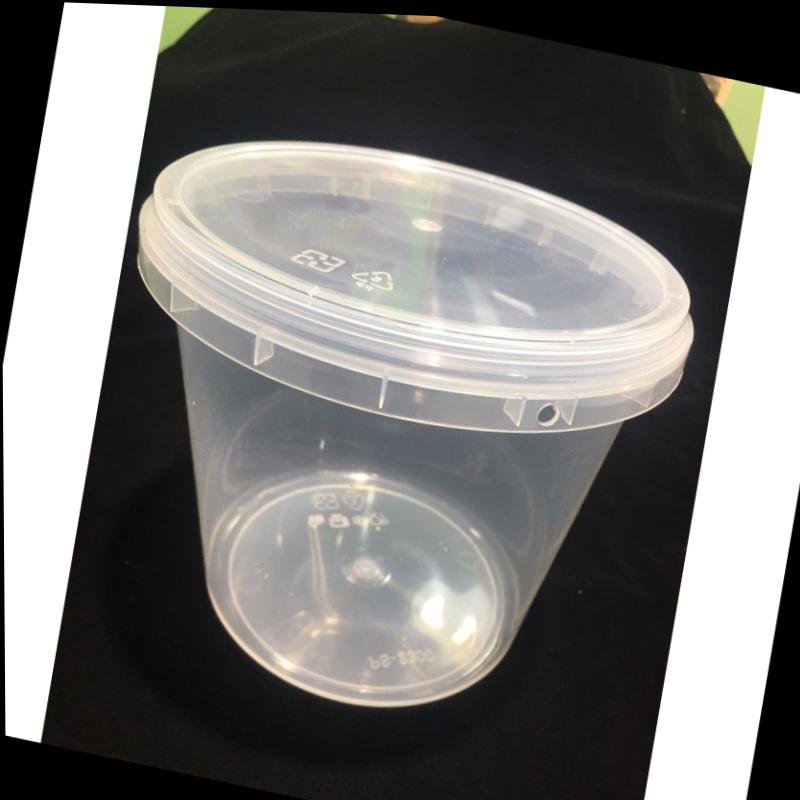plastic: (64, 96, 724, 774)
